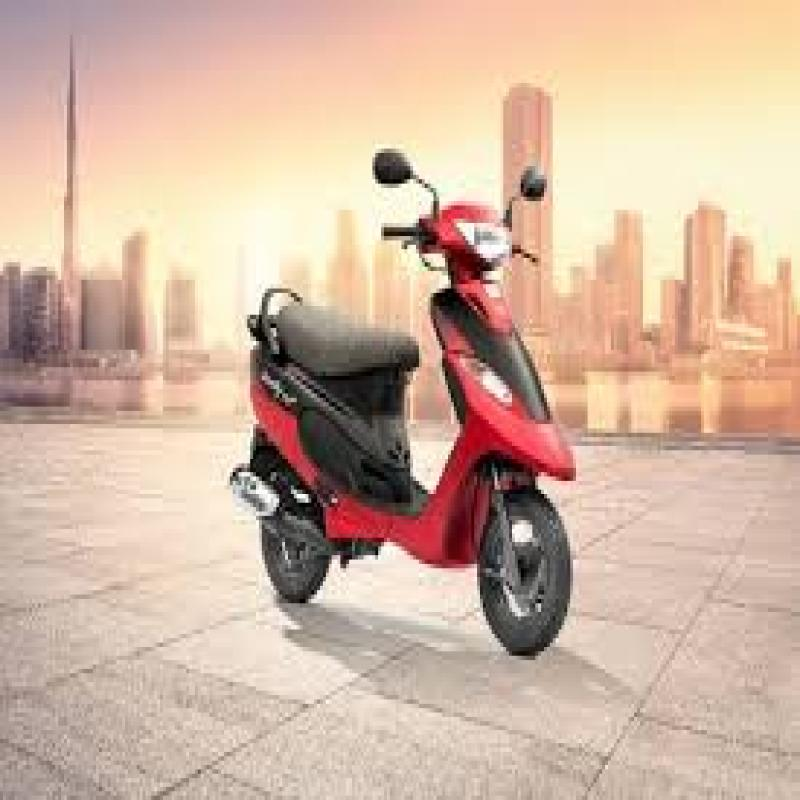bike: (233, 128, 592, 673)
